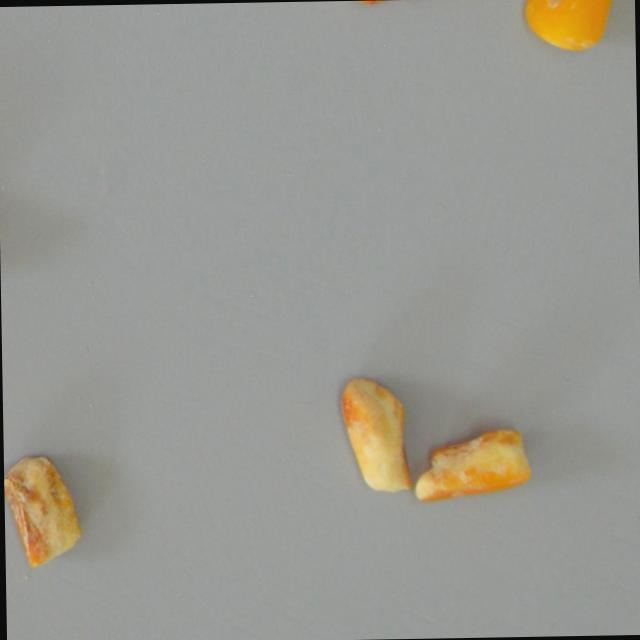dañado: (334, 365, 416, 501), (413, 421, 540, 507), (2, 449, 84, 570), (513, 0, 626, 55), (318, 0, 476, 11)
